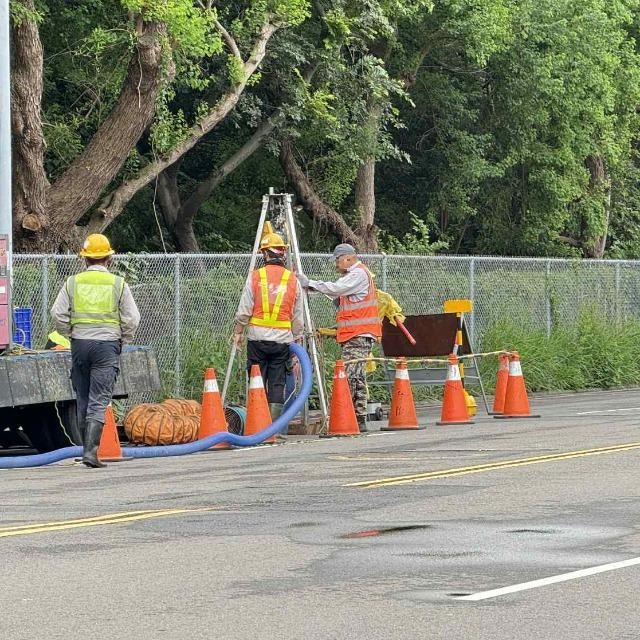Vest: (326, 267, 386, 346), (242, 266, 300, 337)
